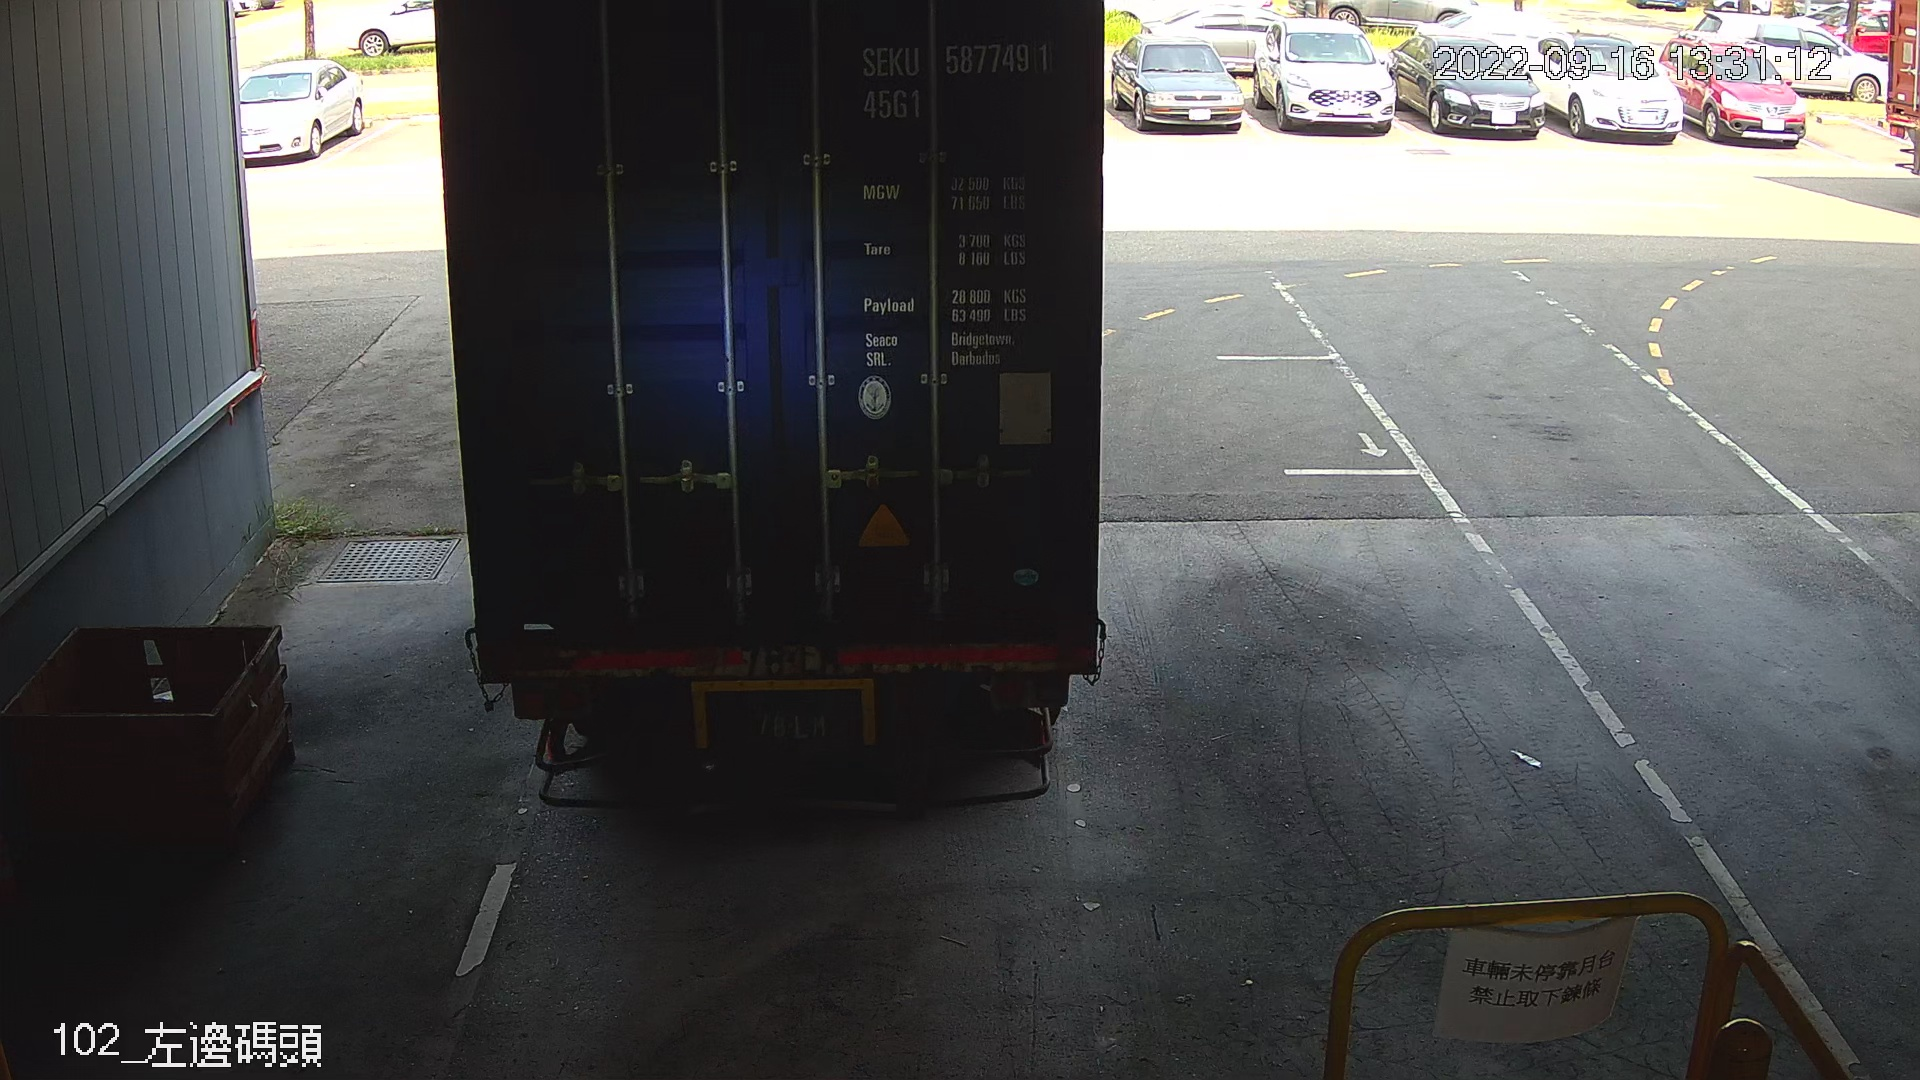container: (848, 30, 1060, 132)
